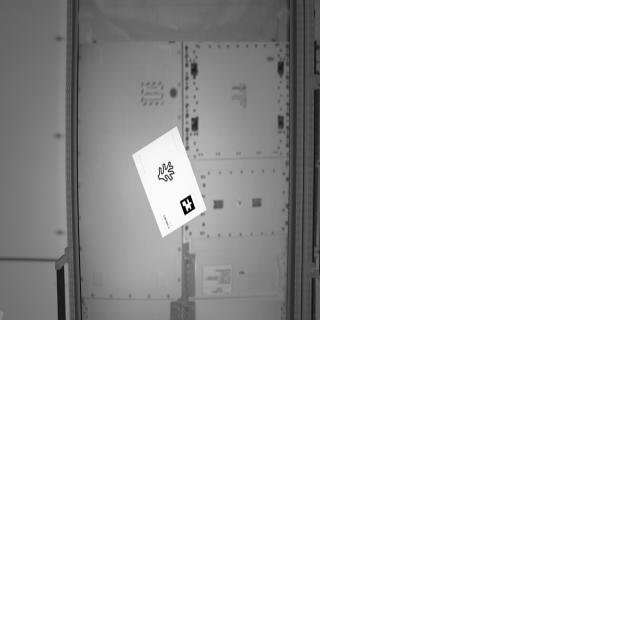emerald: (153, 159, 180, 187)
